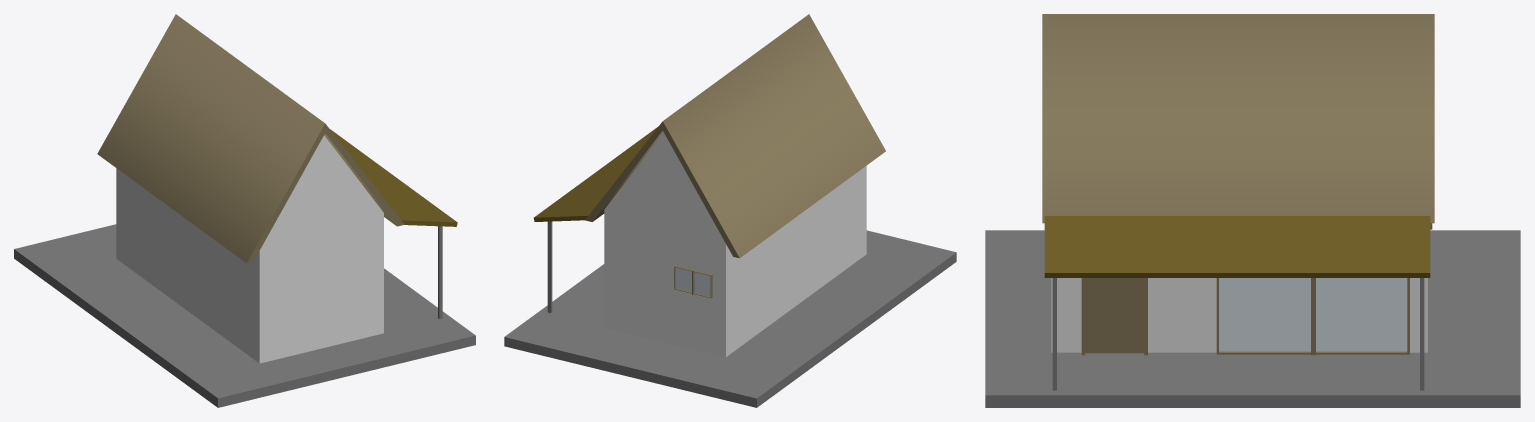
3 renders of one model, left to right at view 1: azimuth 30°, elevation 25°; view 2: azimuth 150°, elevation 25°; view 3: azimuth 270°, elevation 25°, orthographic. The views are drawn at different scales.
Visible parts, largest first — view 1: house01; view 2: house01; view 3: house01.
Part boxes in pixels (left/top/right/bottom): house01: left=14, top=14, right=475, bottom=407; house01: left=504, top=14, right=956, bottom=407; house01: left=985, top=14, right=1520, bottom=407.
Bounding box in the file's own units: 4.03 × 3.48 × 5.42.
